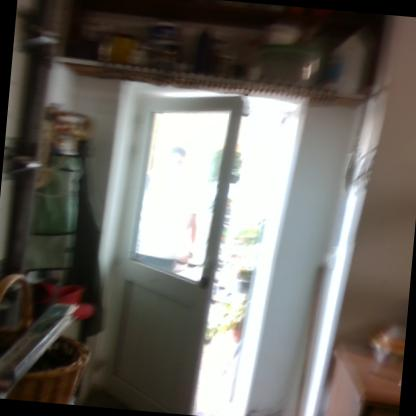semi: (91, 72, 316, 415)
